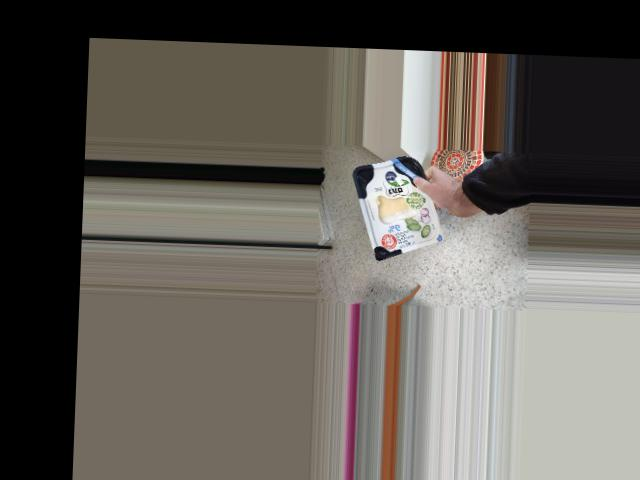cheese: (348, 153, 444, 263)
